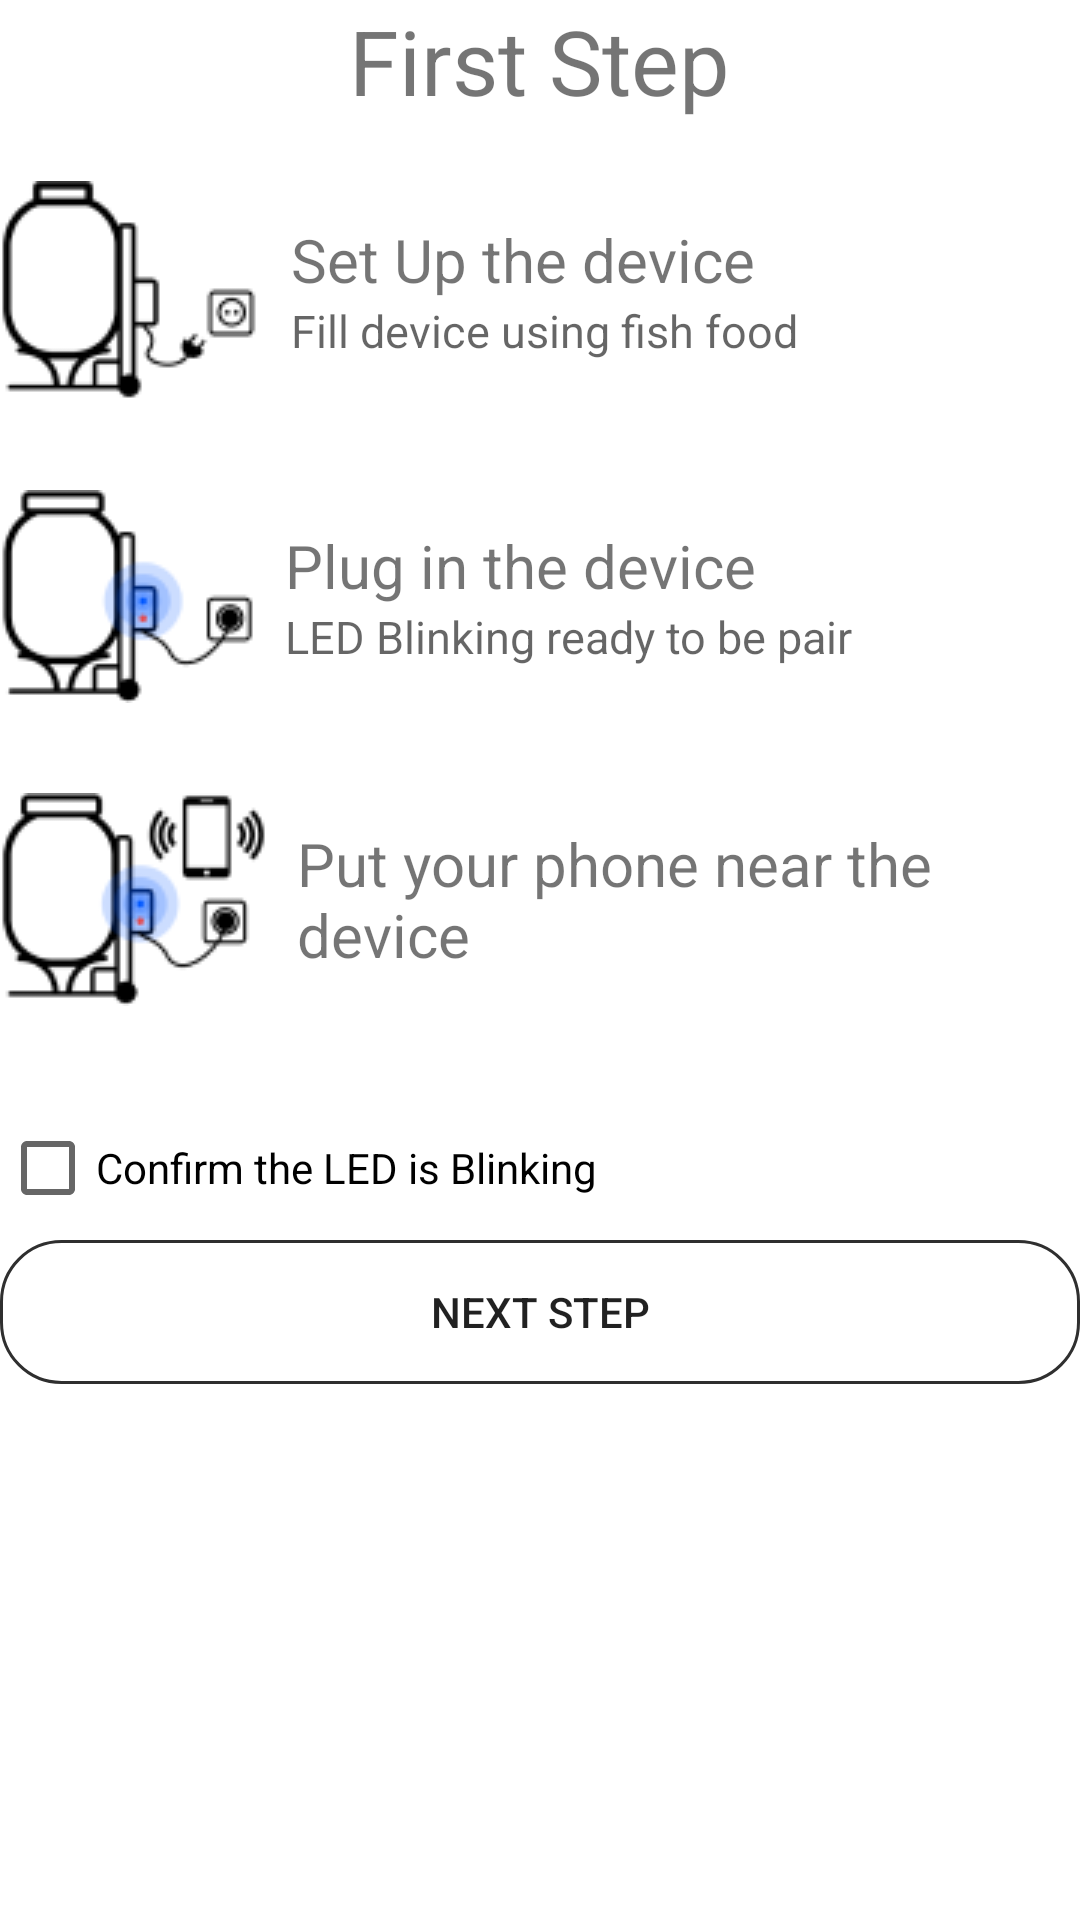

Screen size 1080×1920. Icon name, then its center in pixels as [x,y]:
devicenear: [133,898]
deviceplugin: [127,596]
devicesetup: [129,289]
